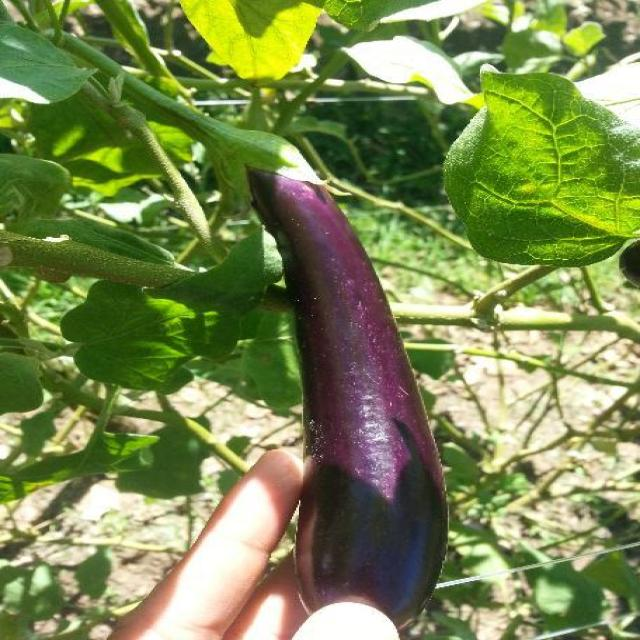eggplant: (208, 128, 449, 636)
